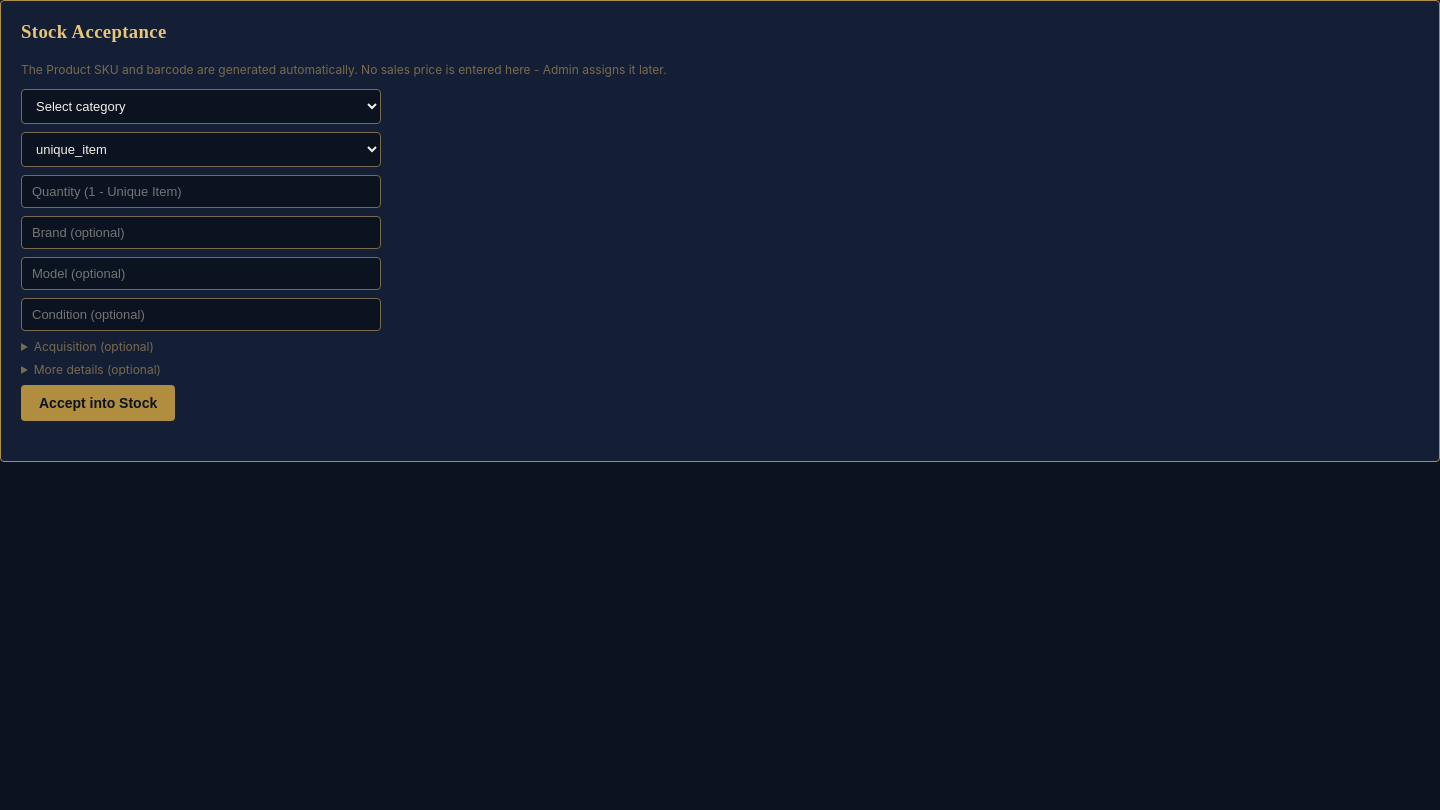
Test: ApplyAndFinalizeSection (Sprint 137: warehouse-simplified Stock Acceptance) › rejects negative purchase cost before submitting
Click the heading "Acquisition (optional)" at (94, 346), box [34,339,154,354]
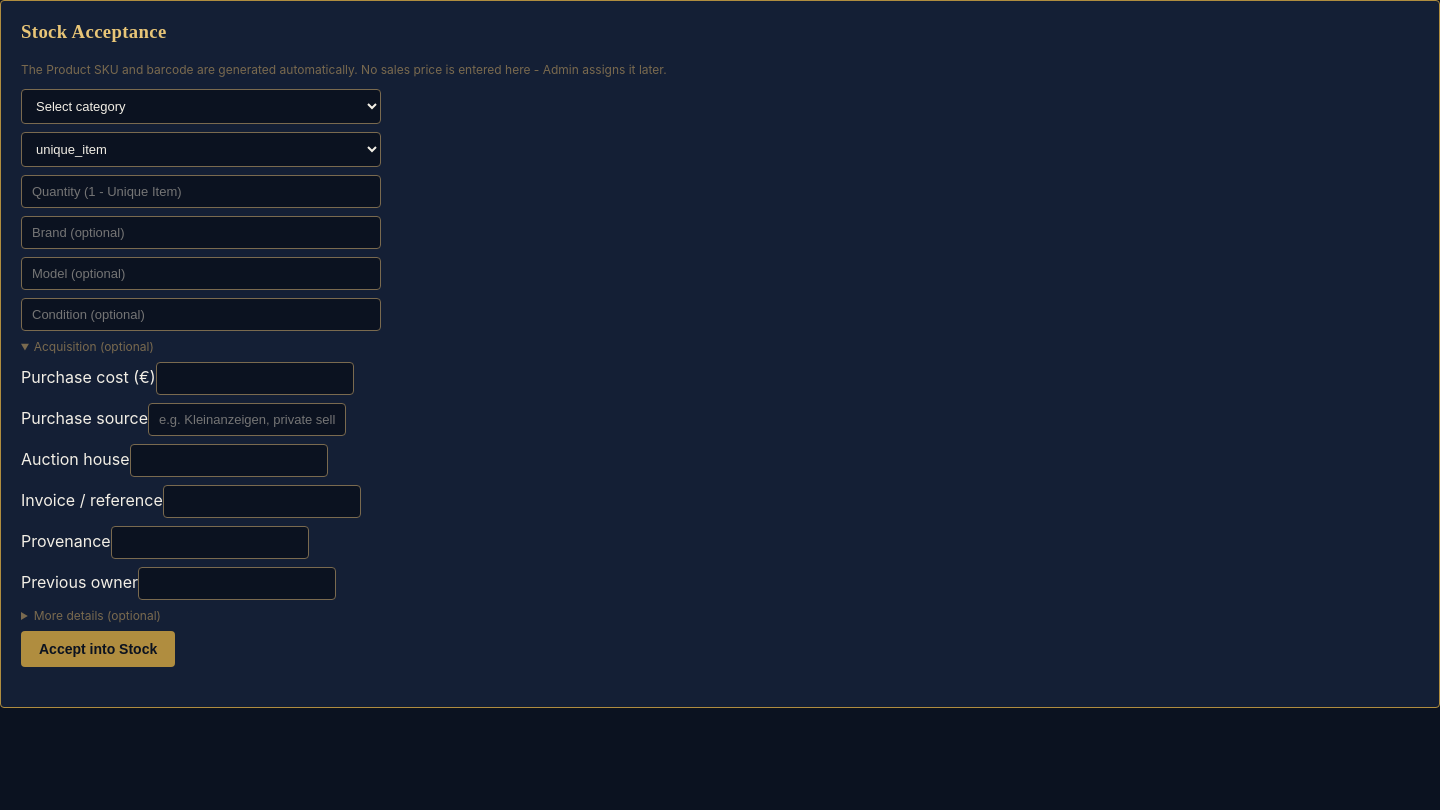
Type "-1" into the number field labelled "Purchase cost (€)" at (254, 378), box [156,362,354,395]
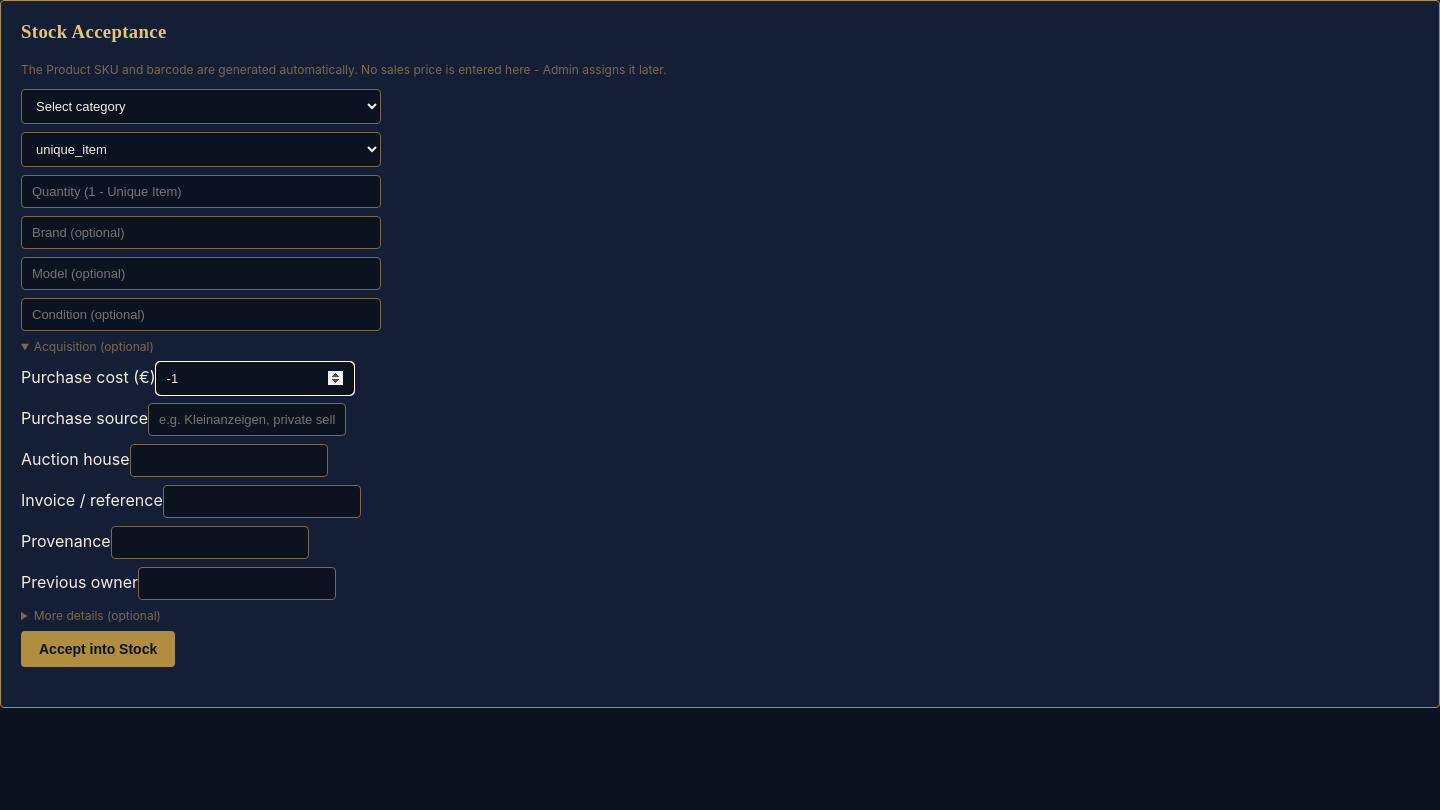
Select "Category One" in the 1st dropdown showing "Select category" at (201, 106), box [21,89,381,124]
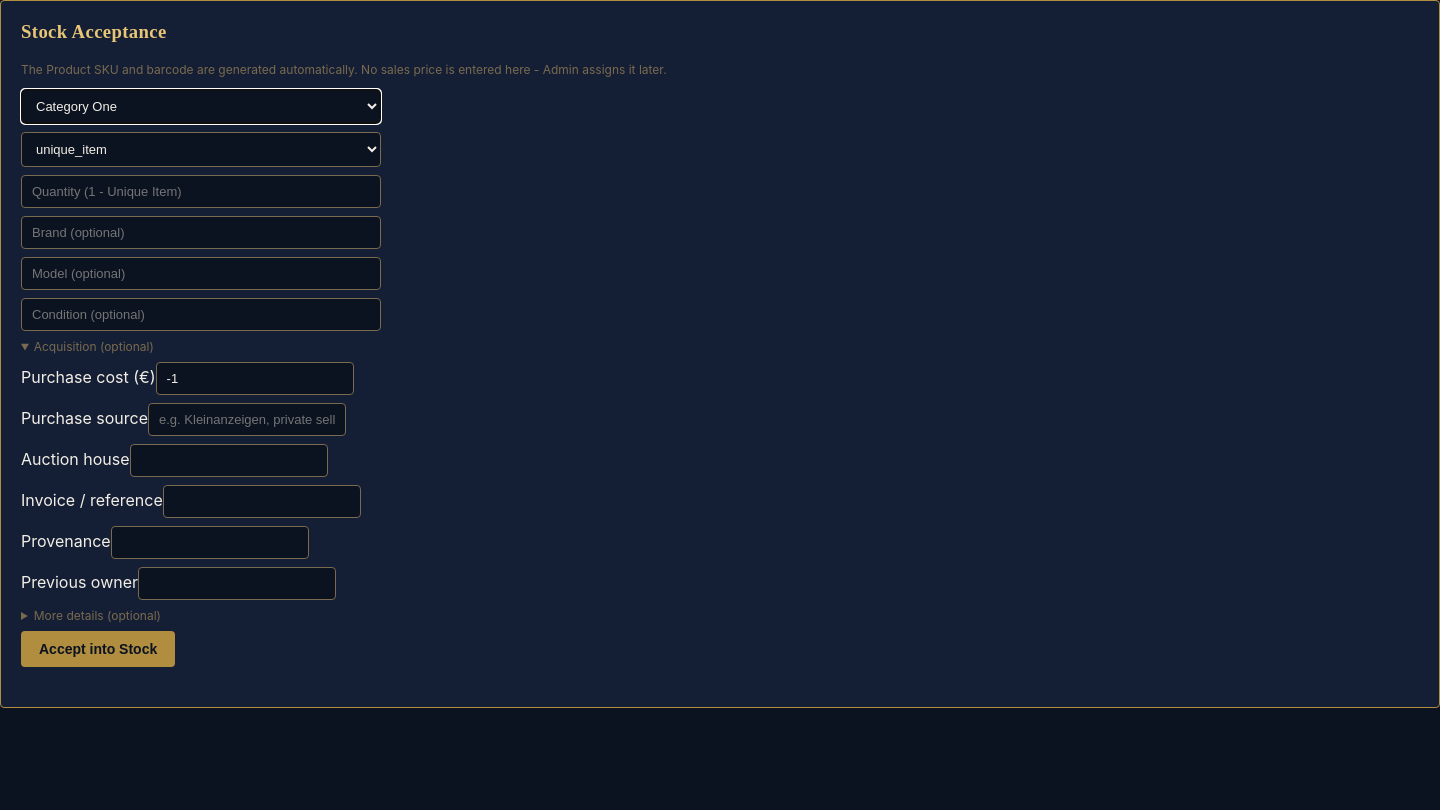
Click the button "Accept into Stock" at (98, 649), box [21,631,175,667]
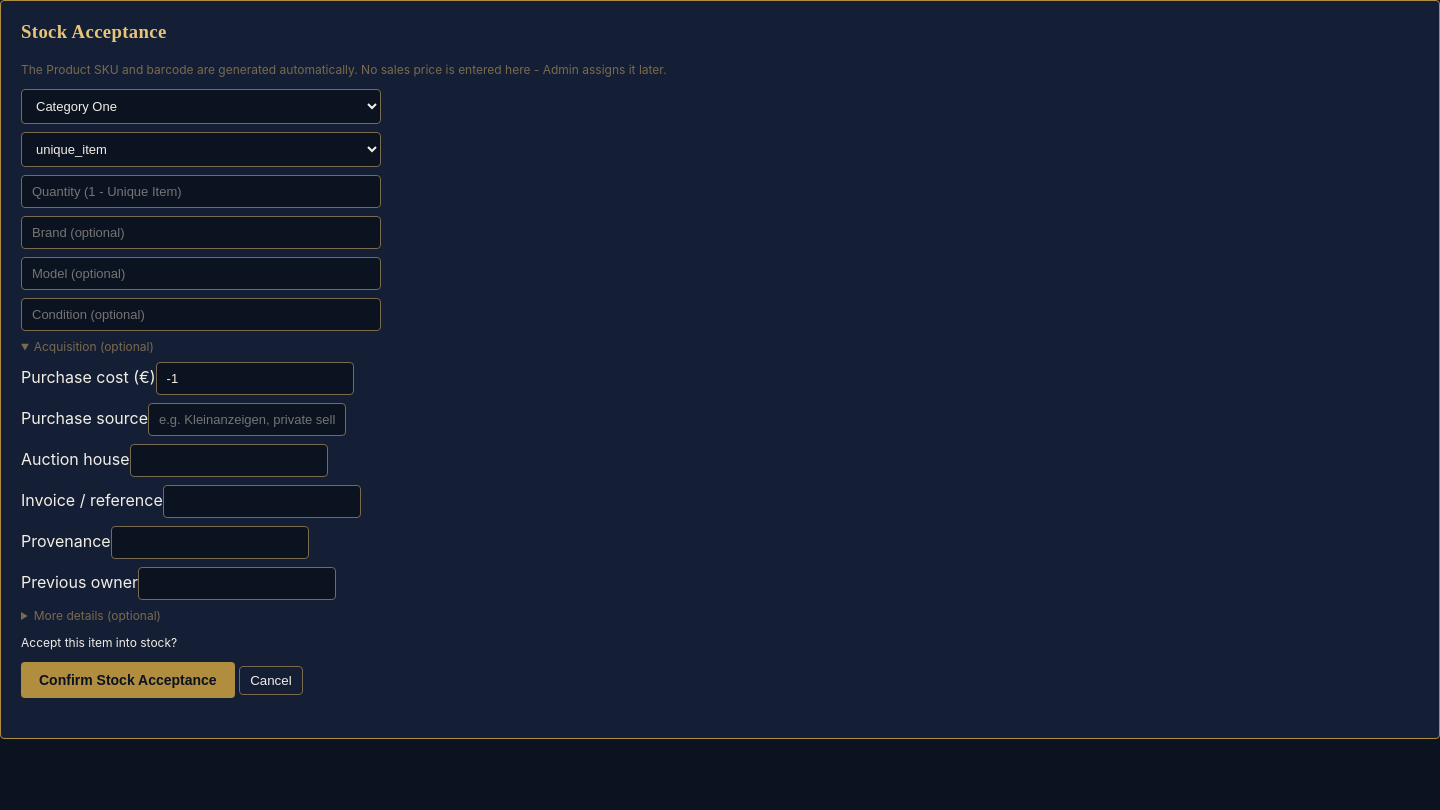
Click the button "Confirm Stock Acceptance" at (128, 680), box [21,662,235,698]
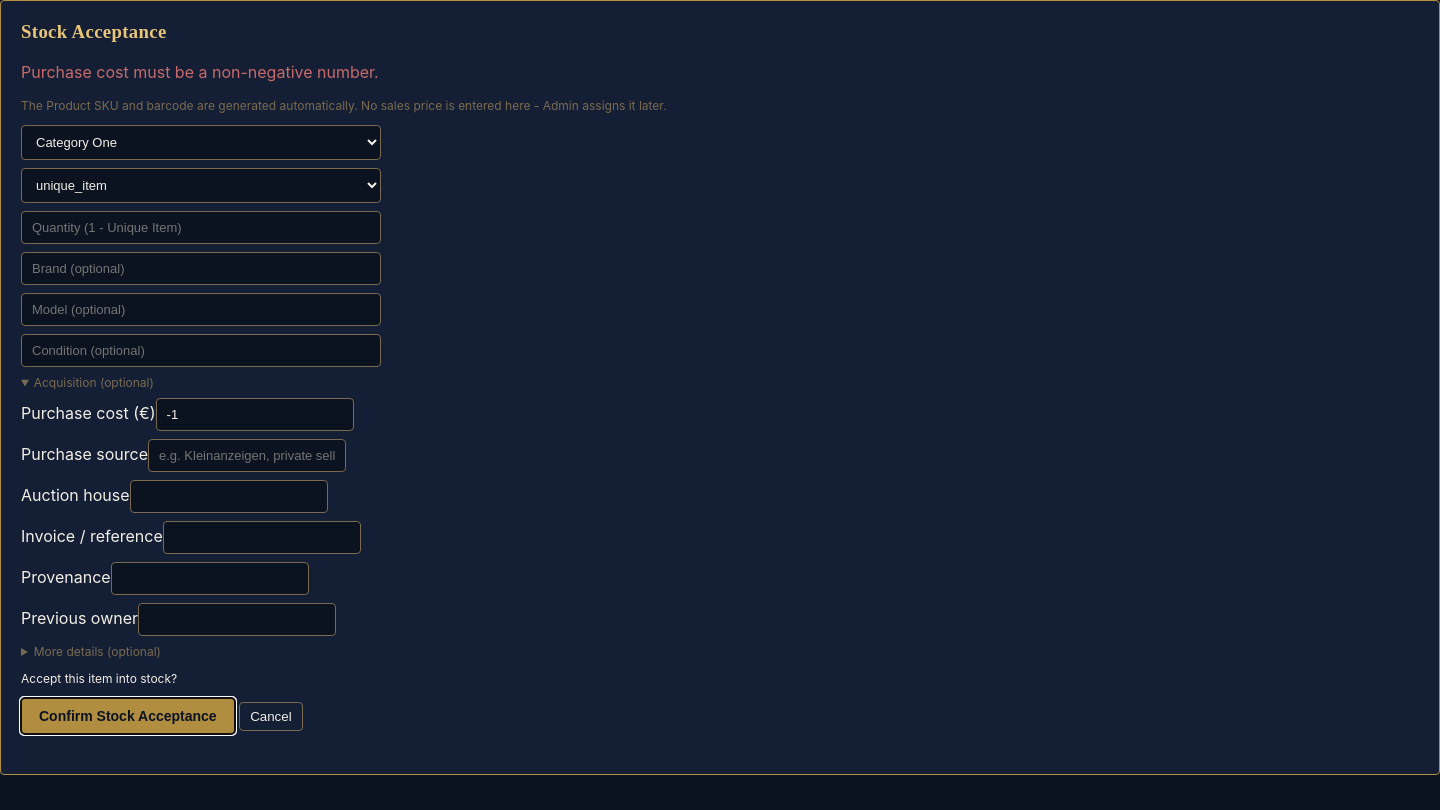
Check: the text "Purchase cost must be a non-negative number." is shown, box [21,62,379,82]
